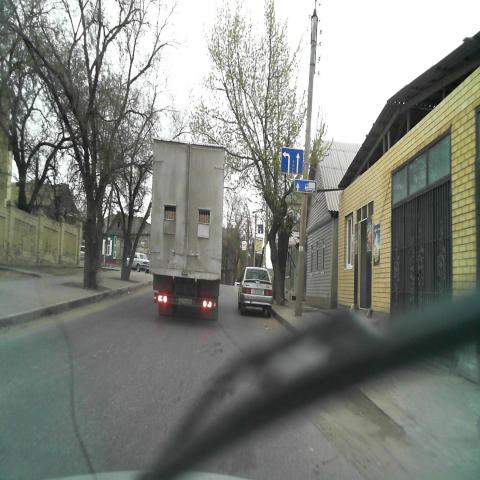6_15_1: (293, 178, 317, 194)
